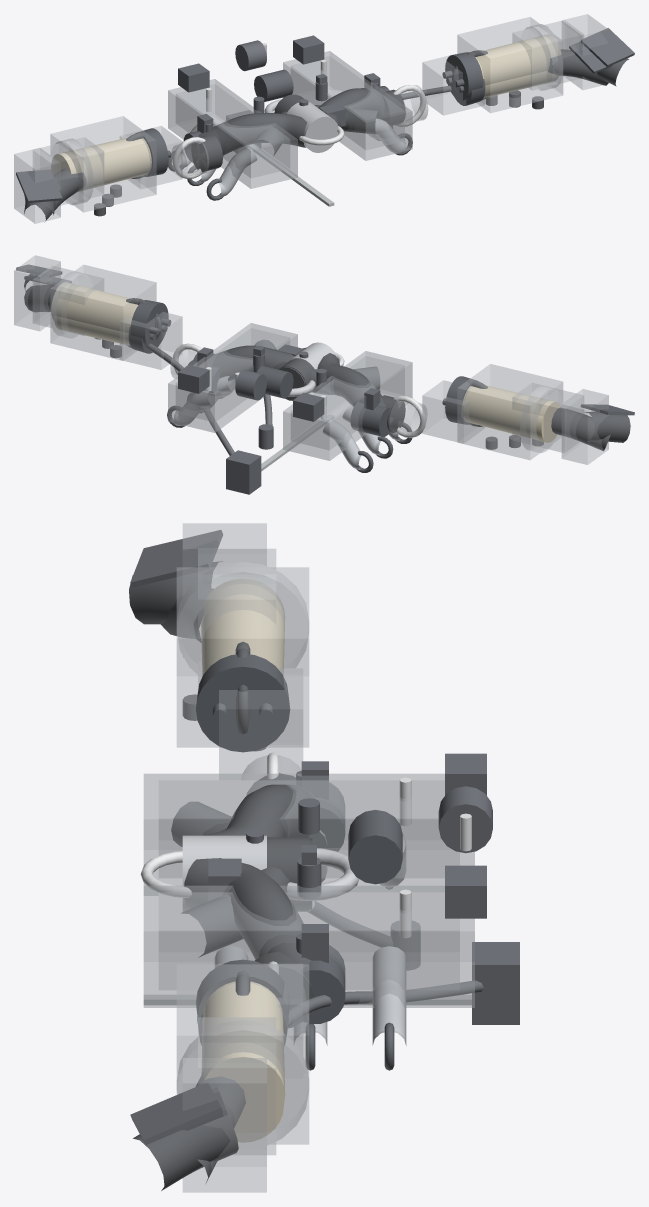
The model's file is airfilter.glb.
3 renders of one model, top to bottom at view 1: azimuth 30°, elevation 25°; view 2: azimuth 150°, elevation 25°; view 3: azimuth 270°, elevation 25°, orthographic. The views are drawn at different scales.
Visible parts, largest first — view 1: airboxHousing_R, airboxHousing_L, plenumBody_L, elementBody (×3), plenumBody_R, plenumPlChamber_L, plenumPlChamber_R, airboxToThrottleBodyDuctBank2, airboxTransition_R, airboxTransition_L, airboxTaper_R, mounting (×2) (+31 smaller); view 2: elementBody (×3), airboxHousing_L, airboxHousing_R, plenumBody_L, plenumBody_R, plenumPlChamber_L, plenumPlChamber_R, airboxMouth_L, airboxTaper_R, airboxTransition_L, airboxMouth_R, airboxTaper_L (+30 smaller); view 3: plenumBody_R, plenumPlChamber_R, plenumBody_L, airboxHousing_L, elementBody (×2), airboxHousing_R, plenumPlChamber_L, airboxMouth_R, mounting (×2), airboxTaper_L, airboxTransition_R, airboxToThrottleBodyDuctBank1 (+33 smaller).
Boxes of the visible parts, box(x1,y1,x2,y2) form: airboxHousing_R: box(457, 17, 563, 113); airboxHousing_L: box(50, 116, 156, 212); plenumBody_L: box(168, 79, 297, 188); elementBody (×3): box(51, 34, 561, 191); plenumBody_R: box(283, 51, 412, 160); plenumPlChamber_L: box(176, 84, 289, 177); plenumPlChamber_R: box(291, 56, 404, 149); airboxToThrottleBodyDuctBank2: box(198, 113, 307, 155); airboxTransition_R: box(512, 20, 583, 90); airboxTransition_L: box(33, 137, 103, 205); airboxTaper_R: box(422, 52, 484, 115); mounting (×2): box(135, 52, 483, 176); elementBody (×3): box(51, 282, 561, 442); airboxHousing_L: box(457, 364, 563, 460); airboxHousing_R: box(50, 264, 156, 360); plenumBody_L: box(283, 351, 412, 460); plenumBody_R: box(168, 323, 297, 432); plenumPlChamber_L: box(291, 356, 404, 449); plenumPlChamber_R: box(176, 328, 289, 421); airboxMouth_L: box(561, 389, 608, 464); airboxTaper_R: box(120, 312, 182, 369); airboxTransition_L: box(512, 383, 583, 453); airboxMouth_R: box(14, 255, 60, 331); airboxTaper_L: box(422, 380, 484, 443); plenumBody_R: box(143, 885, 474, 1007); plenumPlChamber_R: box(159, 892, 459, 989); plenumBody_L: box(143, 773, 474, 895); airboxHousing_L: box(176, 567, 309, 747); elementBody (×2): box(201, 579, 285, 1132); airboxHousing_R: box(176, 964, 309, 1144); plenumPlChamber_L: box(159, 780, 459, 877); airboxMouth_R: box(182, 1058, 266, 1192); mounting (×2): box(196, 654, 290, 1024); airboxTaper_L: box(219, 668, 303, 779); airboxTransition_R: box(198, 1017, 276, 1155); airboxToThrottleBodyDuctBank1: box(184, 858, 311, 968).
Size of the model in its own units: 2.33 by 0.4 by 0.6496.
